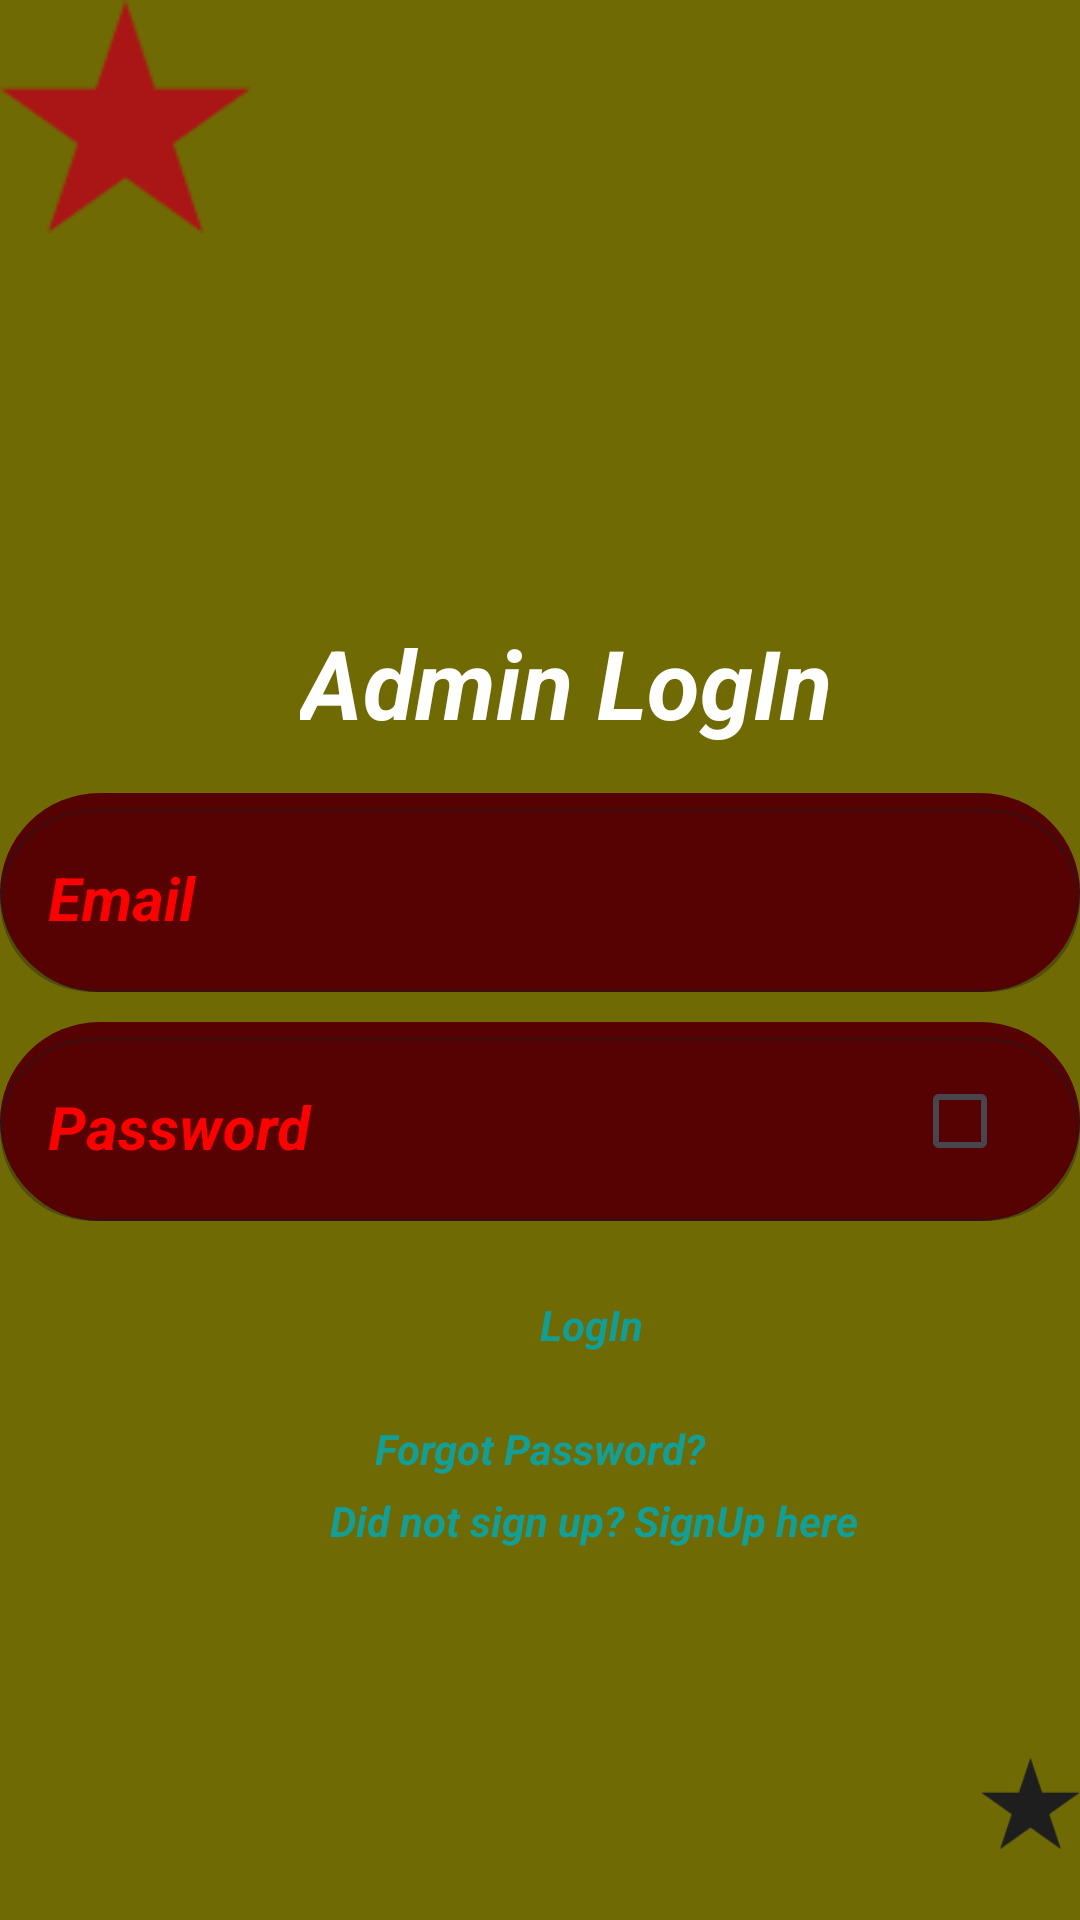

Screen size 1080w x 1920h. Icon name, then its center in pixels as (x=x, y=y):
star: (x=125, y=118), (x=1030, y=1804)
